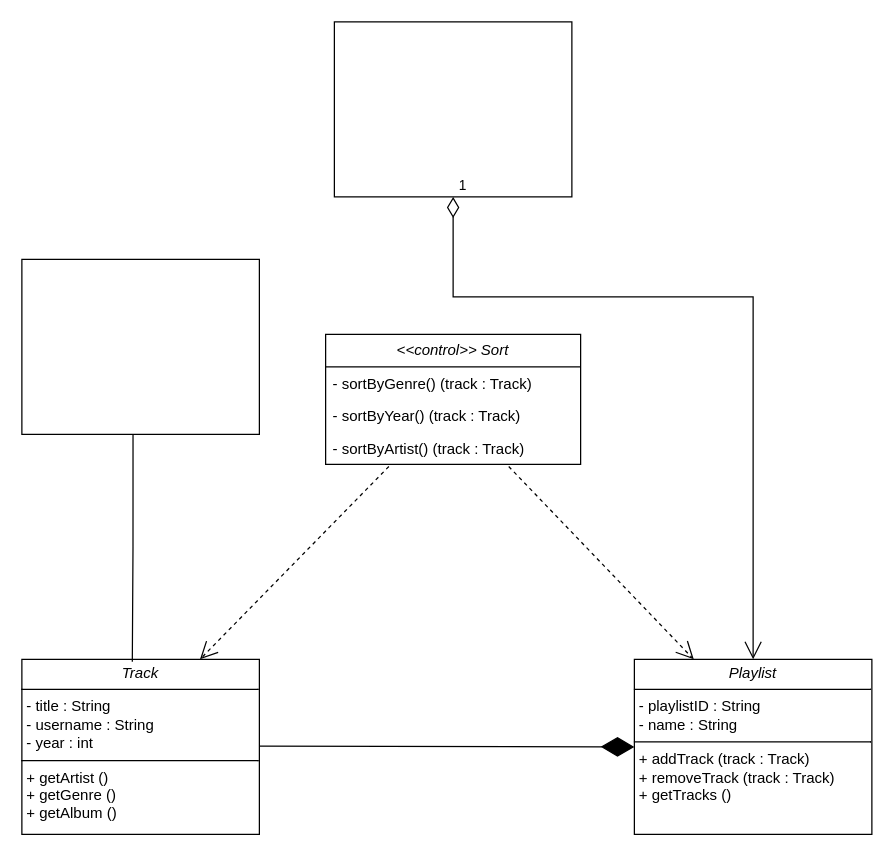
Some shapes in this 894 by 856 pixel diagram are drawn without their labels. The centre of each missing label's shape, as x and y in pixels:
"Artist - name : String - username : String + getGenre () + getDiscography ()" goes at pixel 140 346.
"User - userID : int - username : String + login () + logout ()" goes at pixel 452 109.
